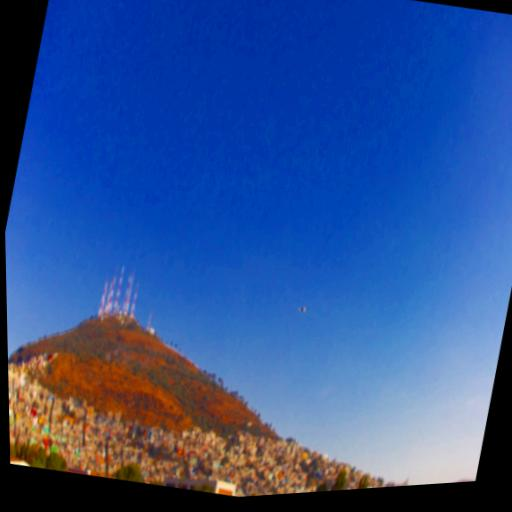drones: (295, 302, 310, 316)
